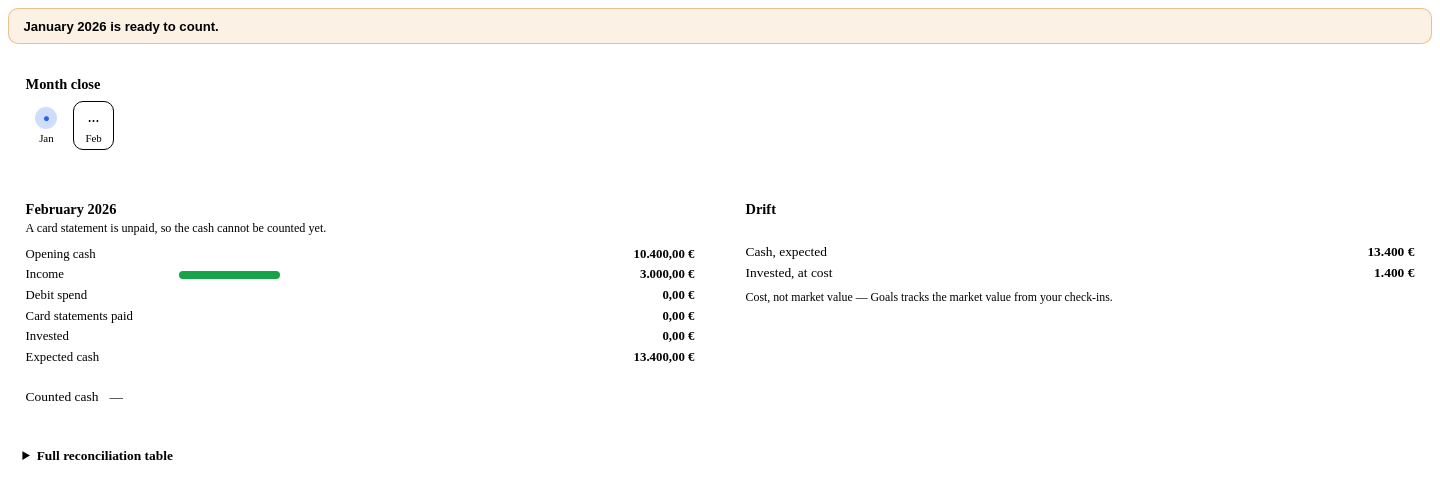
Test case: CashView › walks the bridge for the month the banner selects, with the count input in place
The image size is (1440, 477).
Click the button "January 2026 is ready to count." at (65, 26), box [8, 8, 1432, 44]
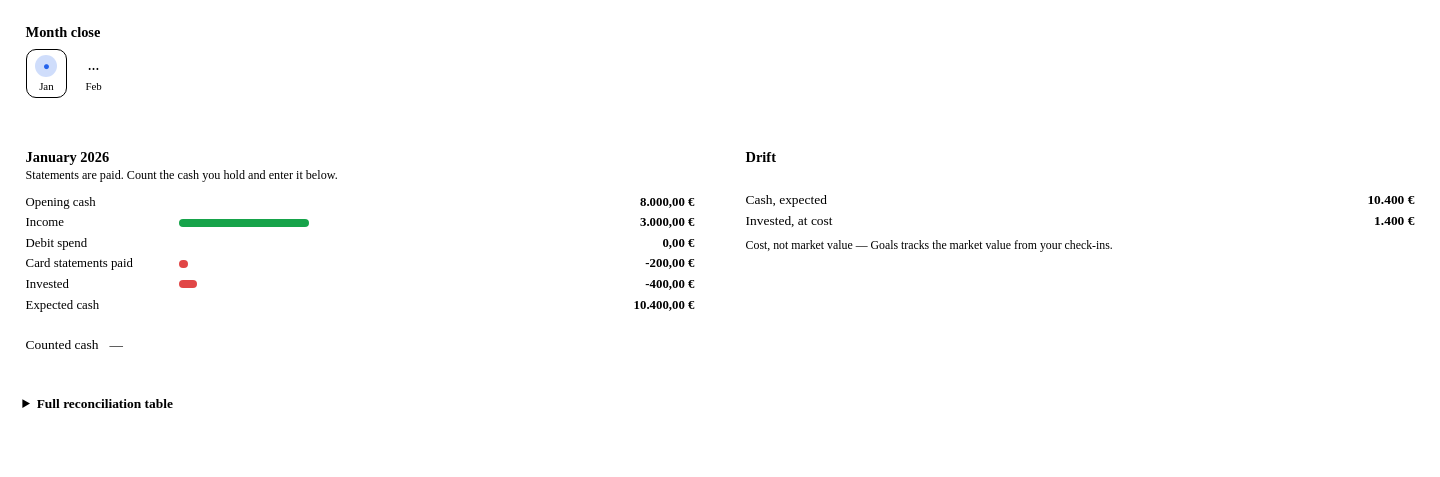
expect the text "Opening cash" is shown: met, box [26, 194, 96, 208]
expect the text "Count the cash you hold" is shown: met, box [26, 168, 338, 182]
